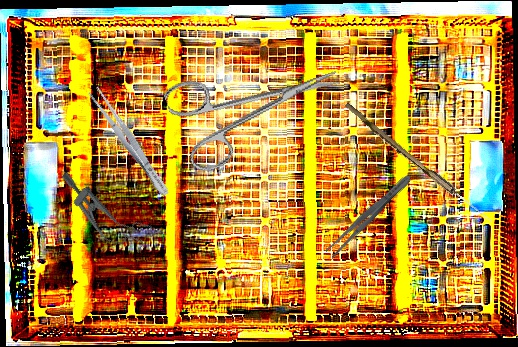Dressing Forceps: (85, 84, 174, 200), (323, 170, 416, 261)
Iris Scissors: (161, 35, 354, 178)
Speculum: (47, 165, 158, 262)
Surgical Spoon: (342, 102, 495, 225)
